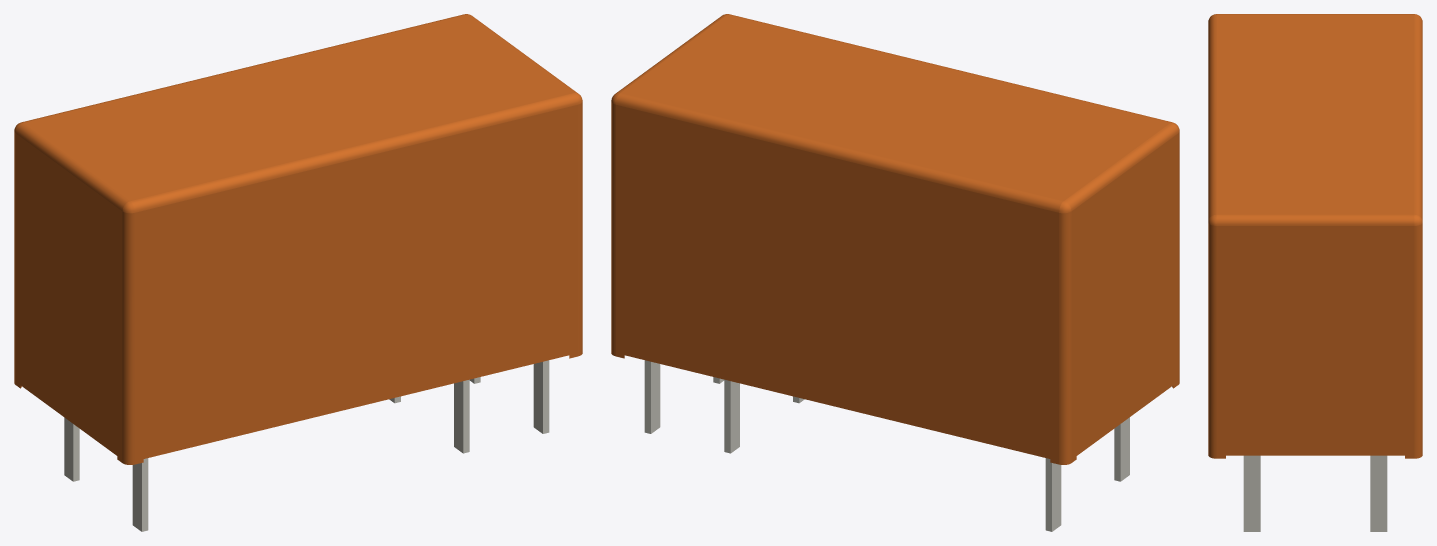
The model's file is kc-relay_dpst_schrack-rt2-forma_rm5mm.glb.
3 views of the same model, side by side, from view 1: azimuth 30°, elevation 25°; view 2: azimuth 150°, elevation 25°; view 3: azimuth 270°, elevation 25° (orthographic). The views are drawn at different scales.
Visible parts, largest first — view 1: 0.5833333333333334_0.16666666666666666_0_0, 0.6666666666666666_0.6666666666666666_0.5833333333333334_0.8; view 2: 0.5833333333333334_0.16666666666666666_0_0, 0.6666666666666666_0.6666666666666666_0.5833333333333334_0.8; view 3: 0.5833333333333334_0.16666666666666666_0_0, 0.6666666666666666_0.6666666666666666_0.5833333333333334_0.8.
Part boxes in pixels (<box>): 0.5833333333333334_0.16666666666666666_0_0: <box>14,14,582,464</box>; 0.6666666666666666_0.6666666666666666_0.5833333333333334_0.8: <box>64,360,549,531</box>; 0.5833333333333334_0.16666666666666666_0_0: <box>611,14,1179,464</box>; 0.6666666666666666_0.6666666666666666_0.5833333333333334_0.8: <box>644,360,1129,531</box>; 0.5833333333333334_0.16666666666666666_0_0: <box>1208,14,1422,458</box>; 0.6666666666666666_0.6666666666666666_0.5833333333333334_0.8: <box>1243,455,1387,531</box>.
Bounding box in the file's own units: 2.9 × 2.1 × 1.27.
